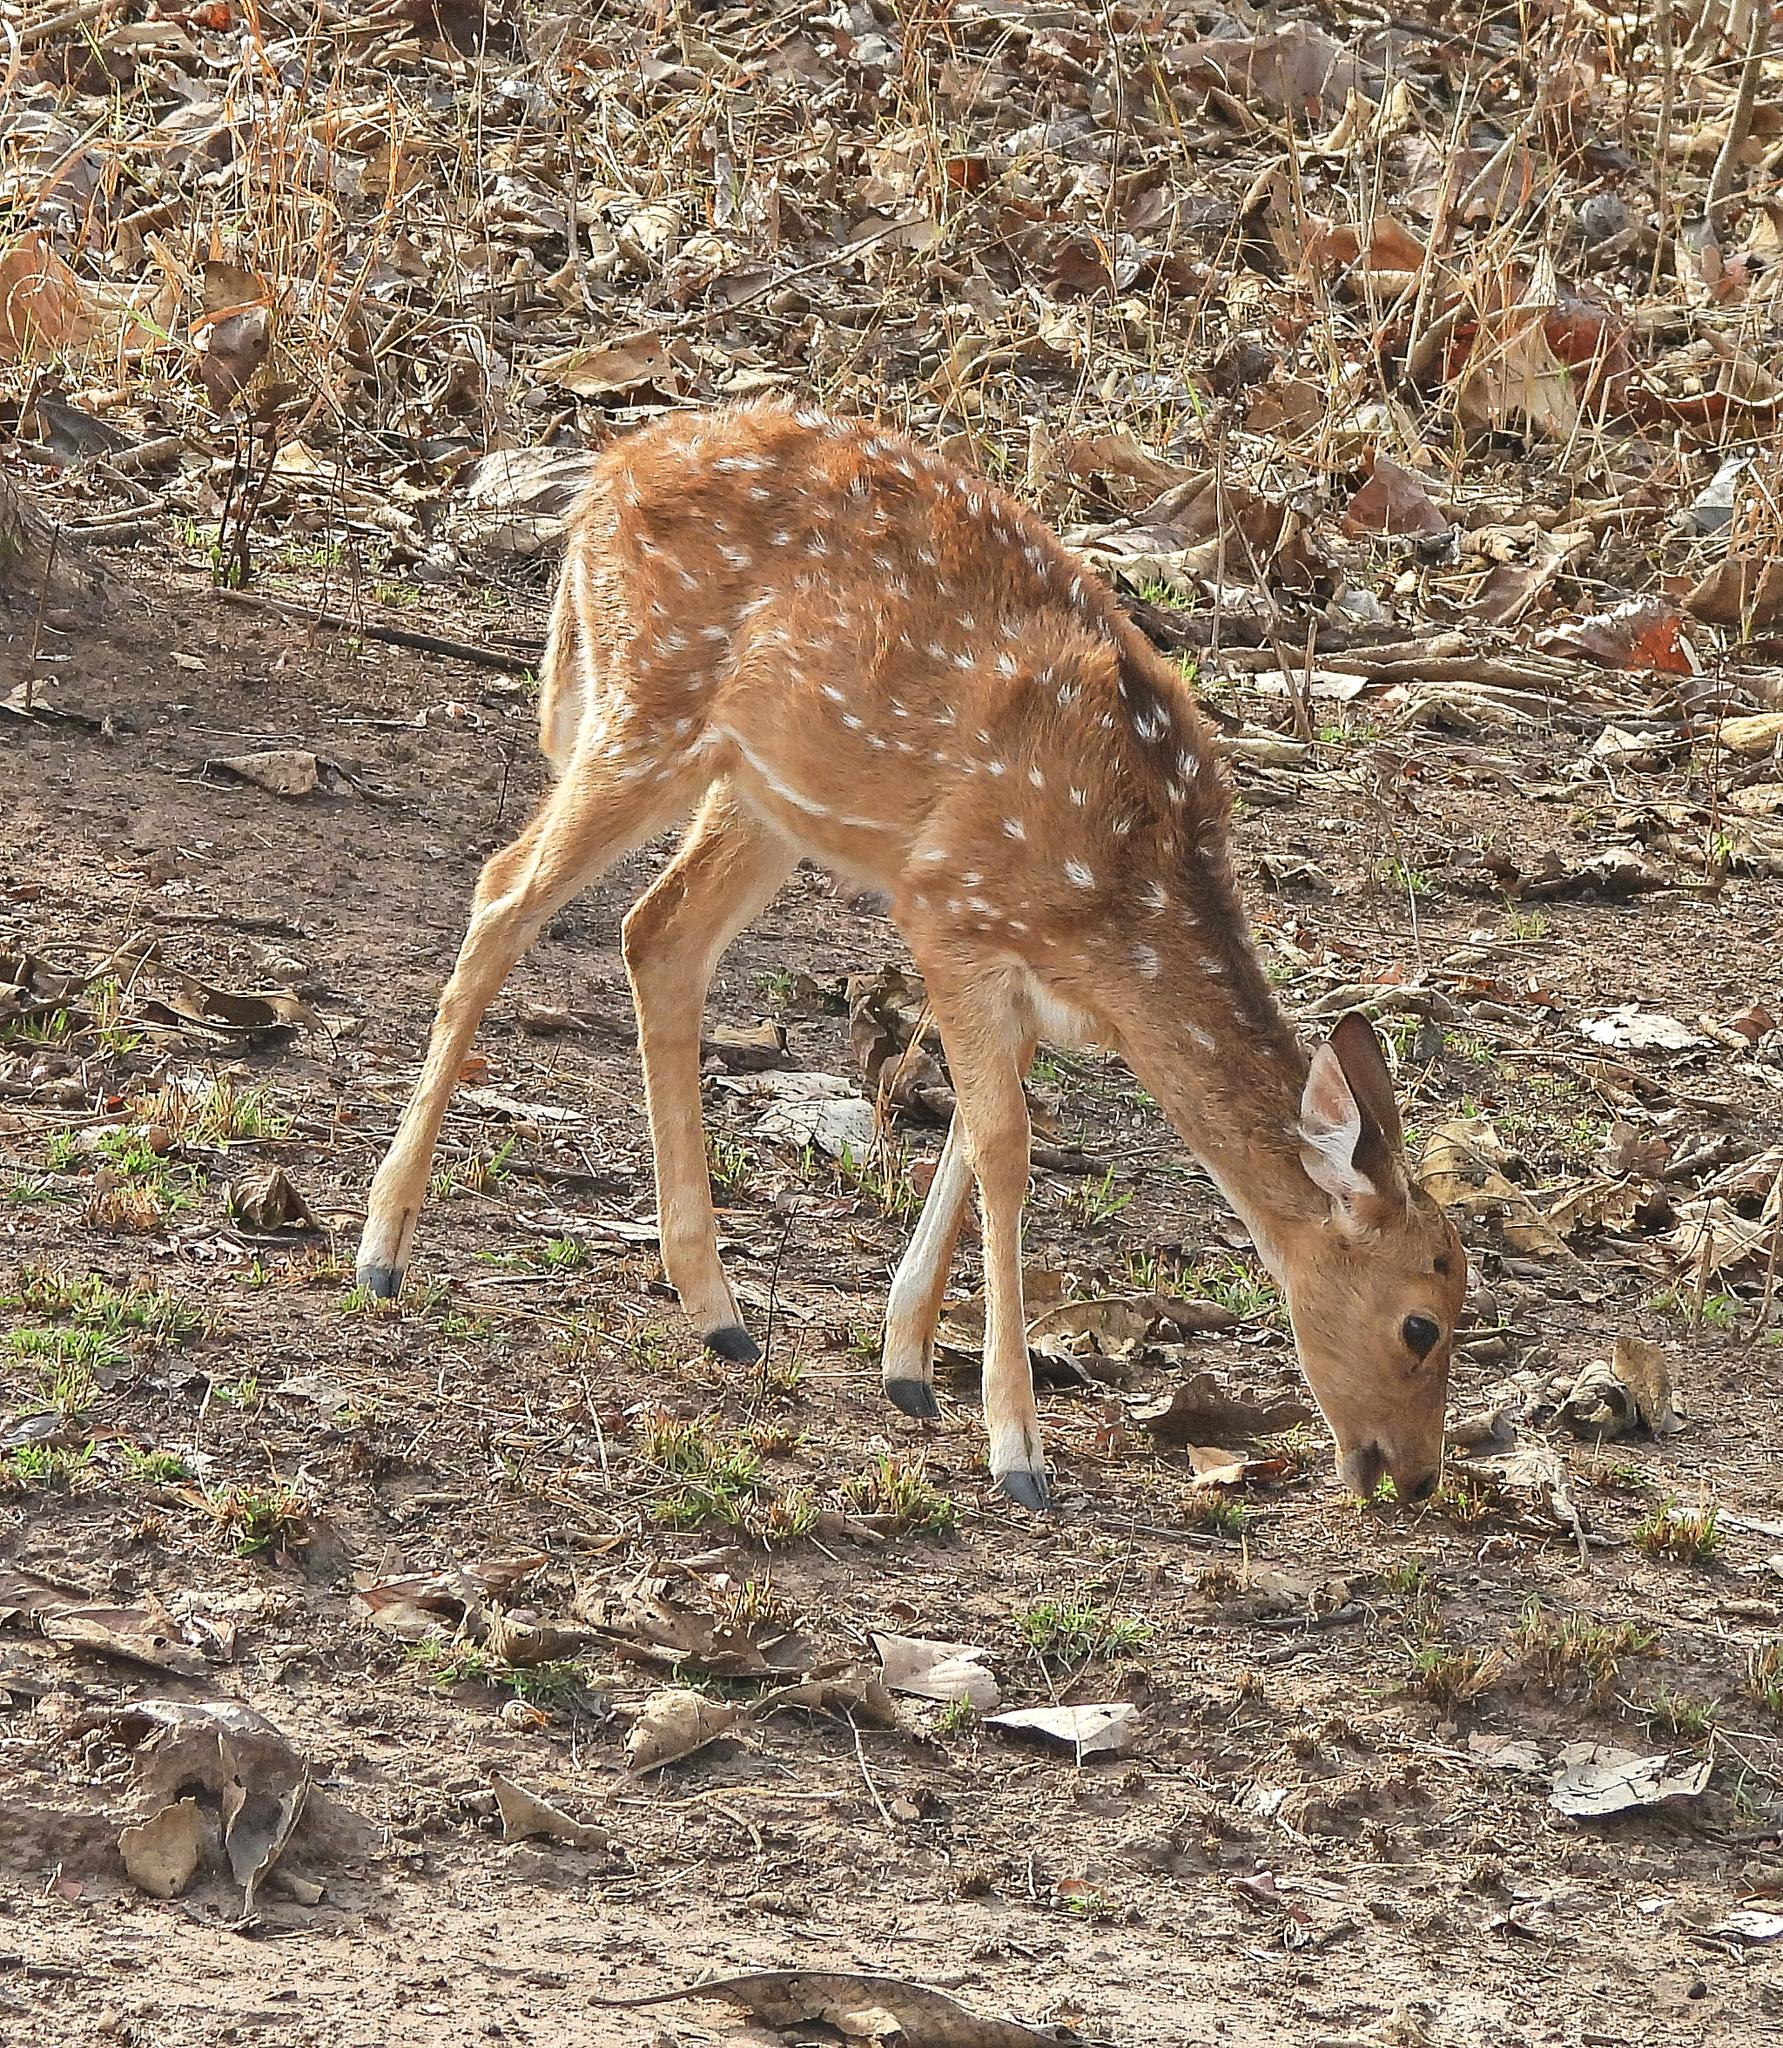Deer: (359, 402, 1463, 1506)
